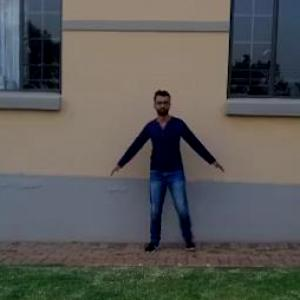land: (115, 94, 226, 266)
